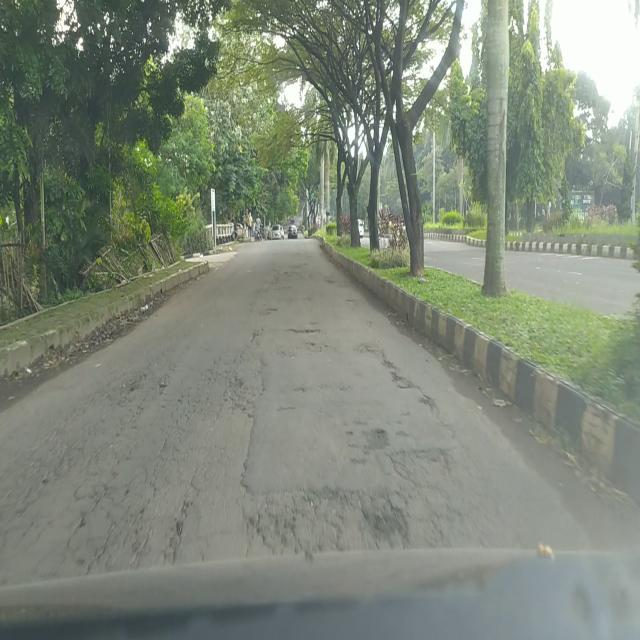Drain Hole: (1, 348, 256, 578), (238, 495, 405, 554)
